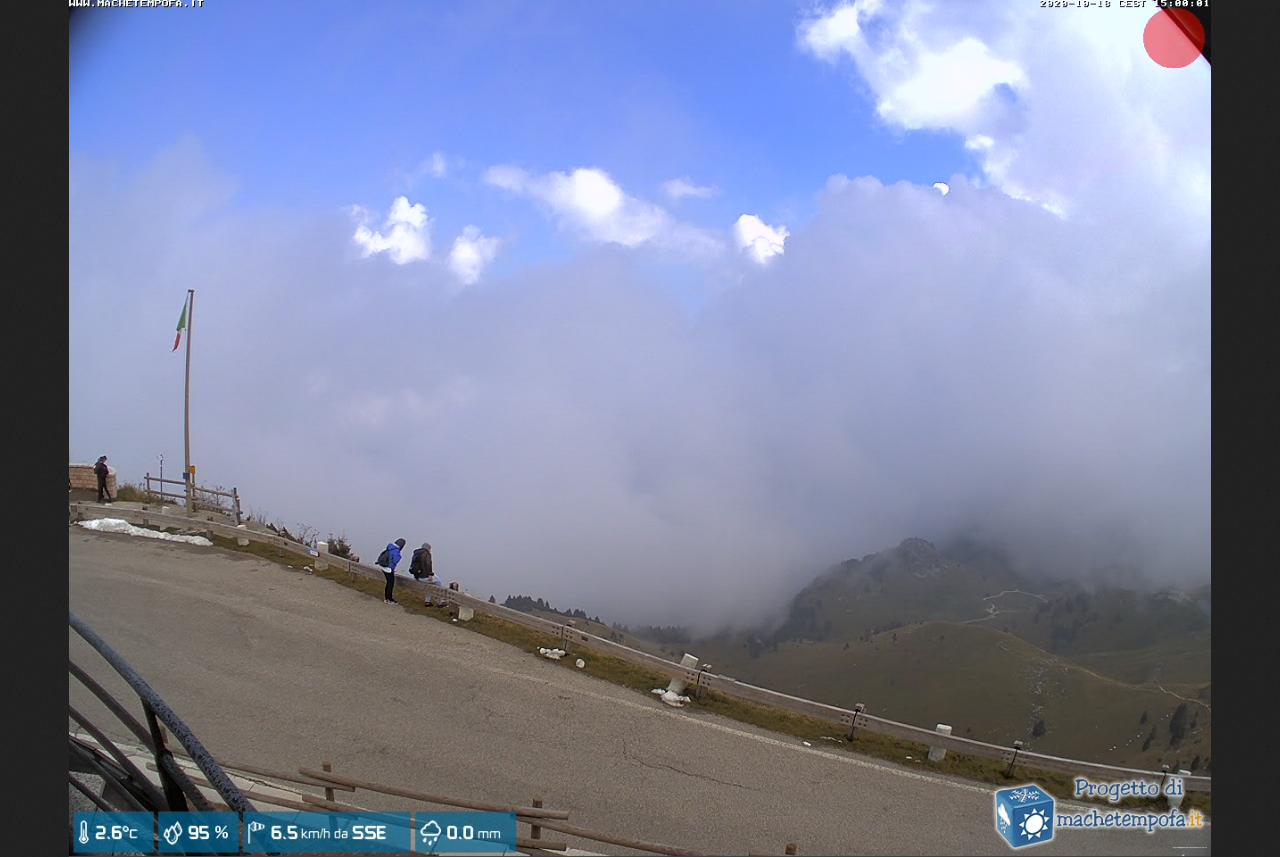no: (169, 290, 193, 357)
